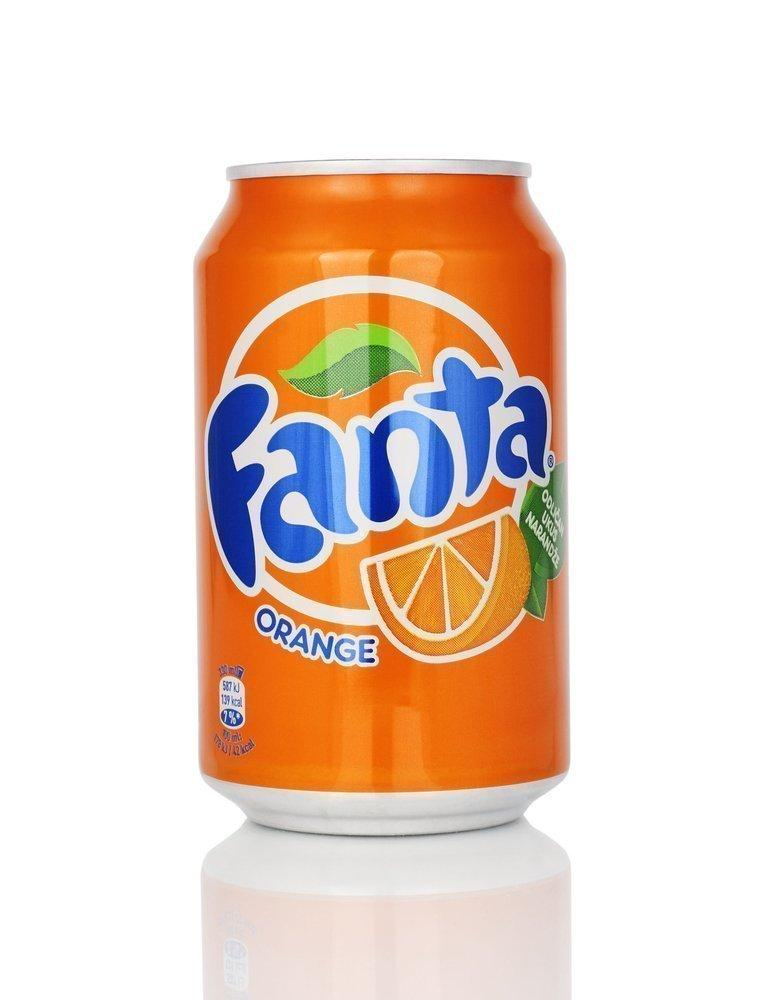metal: (194, 159, 568, 836)
